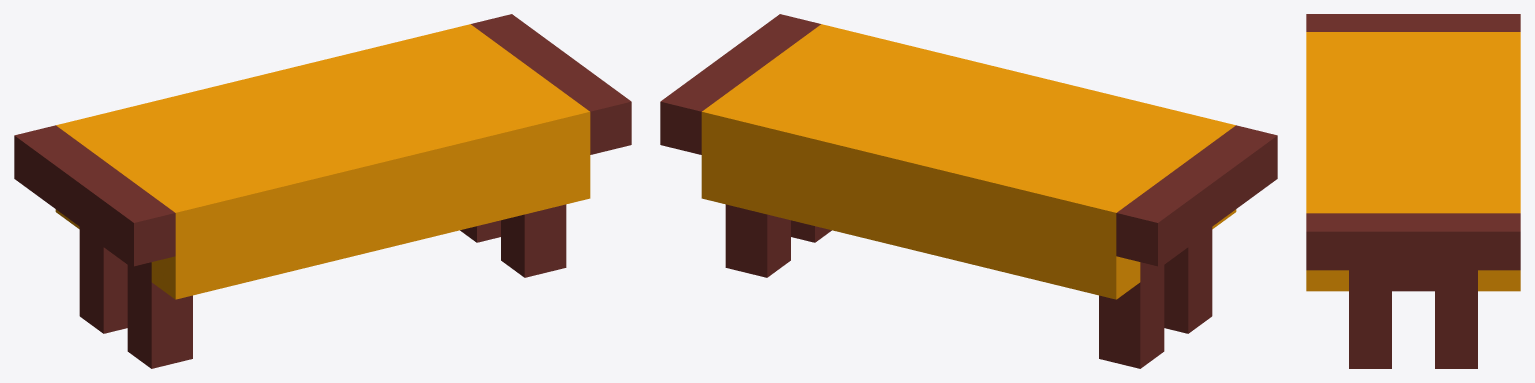
File: large_bench_b_yellow.obj
3 renders of one model, left to right at view 1: azimuth 30°, elevation 25°; view 2: azimuth 150°, elevation 25°; view 3: azimuth 270°, elevation 25°, orthographic. The views are drawn at different scales.
Bounding box in the file's own units: 1.2 × 0.4 × 0.5.
Materials: 1 (1 with a texture image).
